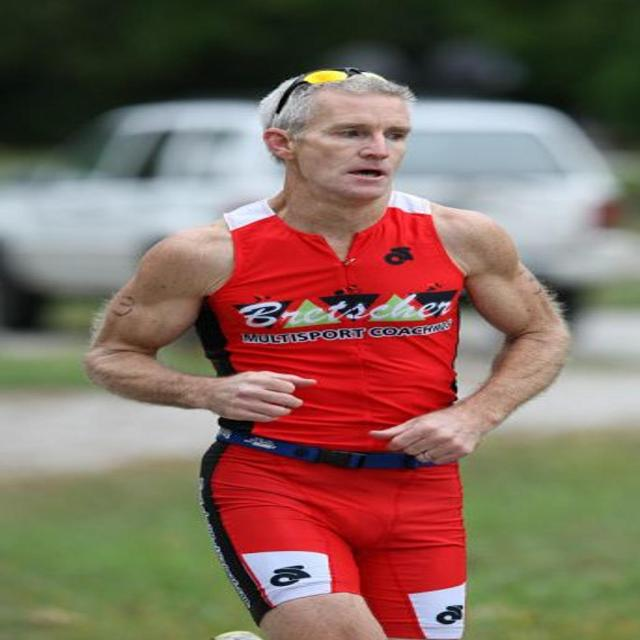Face: (298, 84, 421, 200)
